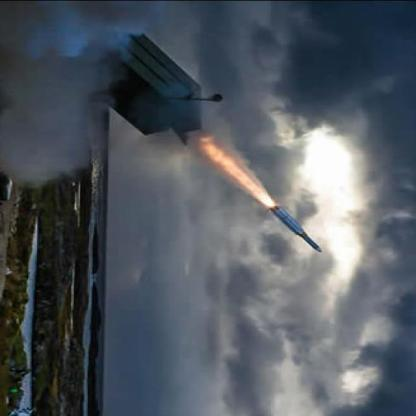MIL_TBM: (264, 201, 329, 255)
